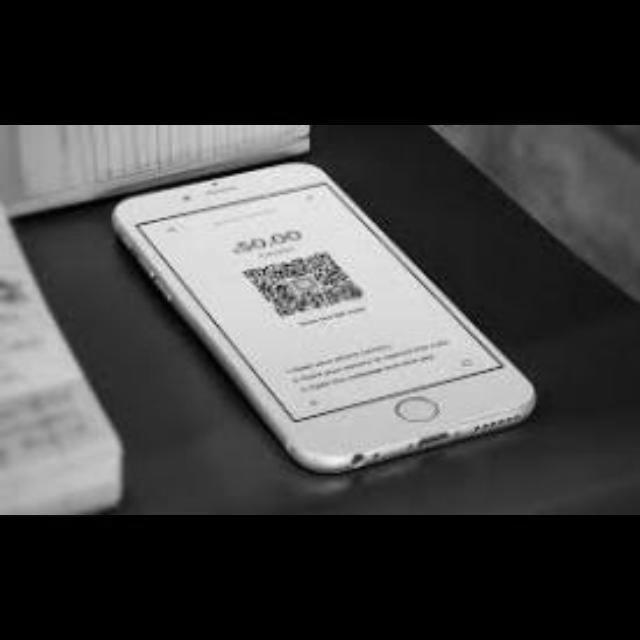fake: (104, 138, 568, 481)
